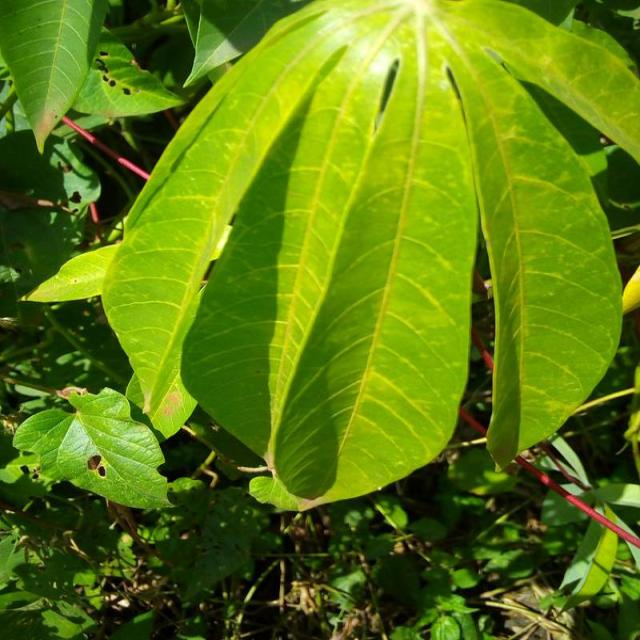cassava leaf: (20, 0, 638, 514), (0, 0, 108, 155)
